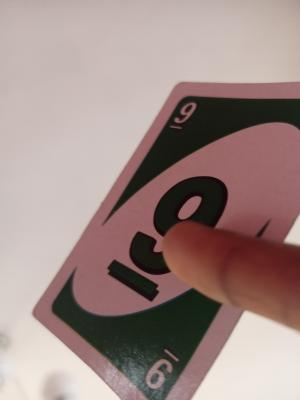num_9: (139, 333, 183, 390), (171, 97, 202, 132)
